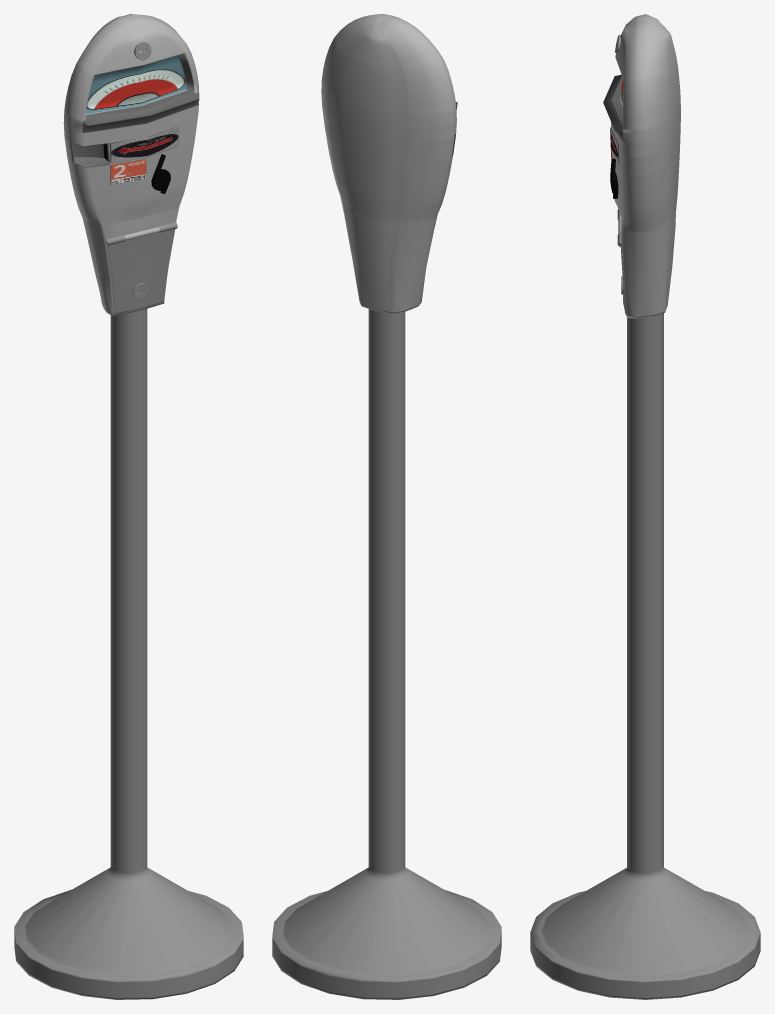
File: ParkingMeter.fbx
3 renders of one model, left to right at view 1: azimuth 30°, elevation 25°; view 2: azimuth 150°, elevation 25°; view 3: azimuth 270°, elevation 25°, orthographic.
Parts seen in each view (by area): view 1: METER_LOD0; view 2: METER_LOD0; view 3: METER_LOD0.
Boxes of the visible parts, x1,y1,x2,y2 form: METER_LOD0: [14, 14, 243, 999]; METER_LOD0: [272, 14, 501, 999]; METER_LOD0: [530, 14, 760, 999].
Size of what is drawn, in the model's own units: 93.95 by 420 by 93.95.
